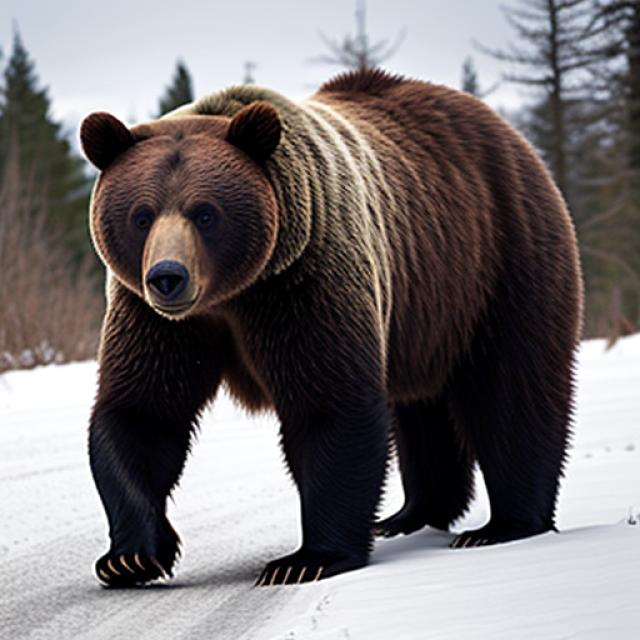bear: (39, 45, 626, 600)
